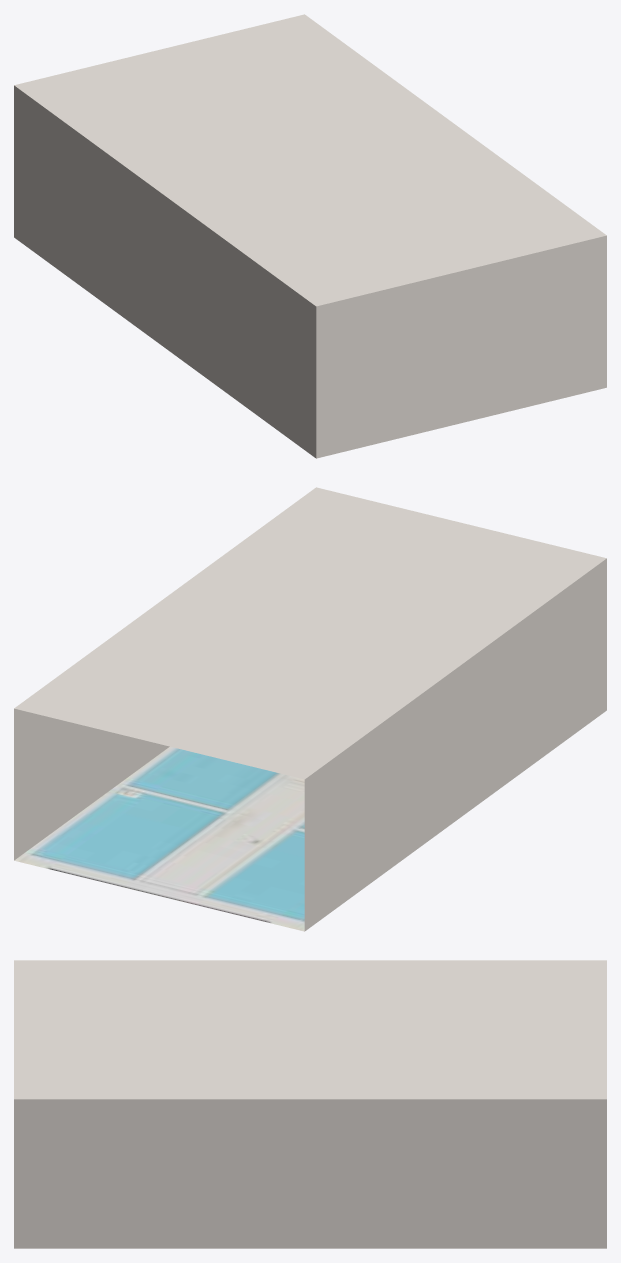
3 renders of one model, top to bottom at view 1: azimuth 30°, elevation 25°; view 2: azimuth 150°, elevation 25°; view 3: azimuth 270°, elevation 25°, orthographic.
Parts seen in each view (by area): view 1: Cube; view 2: Cube; view 3: Cube.
Part boxes in pixels (left/top/right/bottom): Cube: left=14, top=14, right=606, bottom=458; Cube: left=14, top=487, right=606, bottom=931; Cube: left=14, top=960, right=606, bottom=1248.
Bounding box in the file's own units: 1 × 0.5 × 1.8.
1 material, 1 textured.
